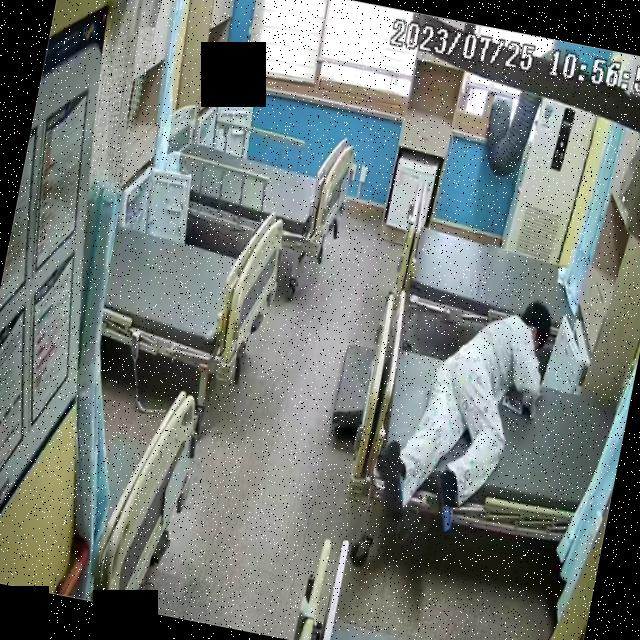bed: (342, 286, 632, 554), (388, 170, 600, 358), (96, 188, 290, 382), (168, 114, 354, 258)
danger: (376, 282, 558, 542)
patient: (373, 281, 558, 542)
